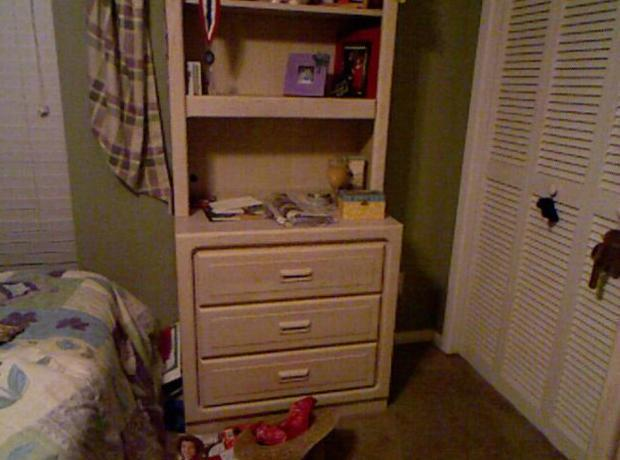Armario: (443, 6, 617, 457)
